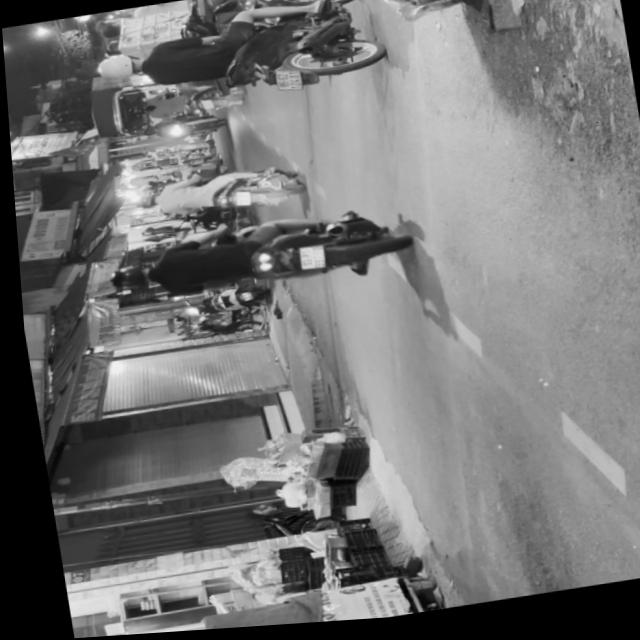helmet: (92, 52, 142, 84), (104, 263, 152, 296)
licenseplate: (84, 0, 388, 122), (98, 204, 406, 317)
nohelmet: (292, 249, 320, 275), (272, 69, 299, 95)
